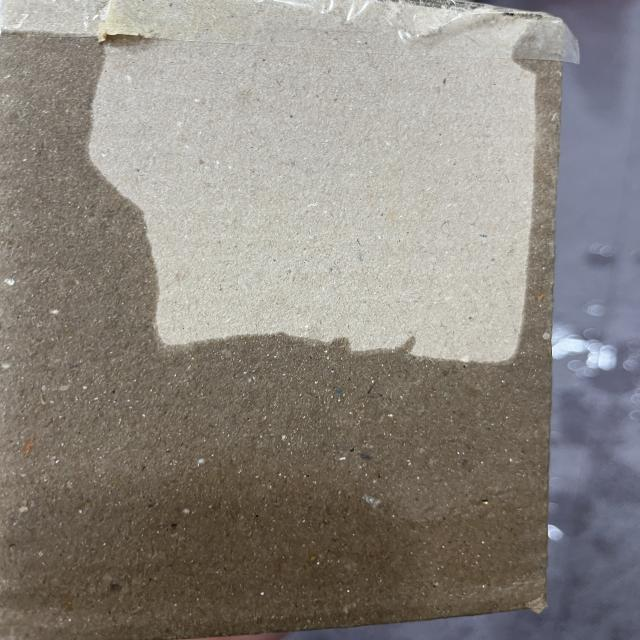wet: (0, 346, 576, 640), (0, 34, 156, 342), (524, 17, 570, 344)
